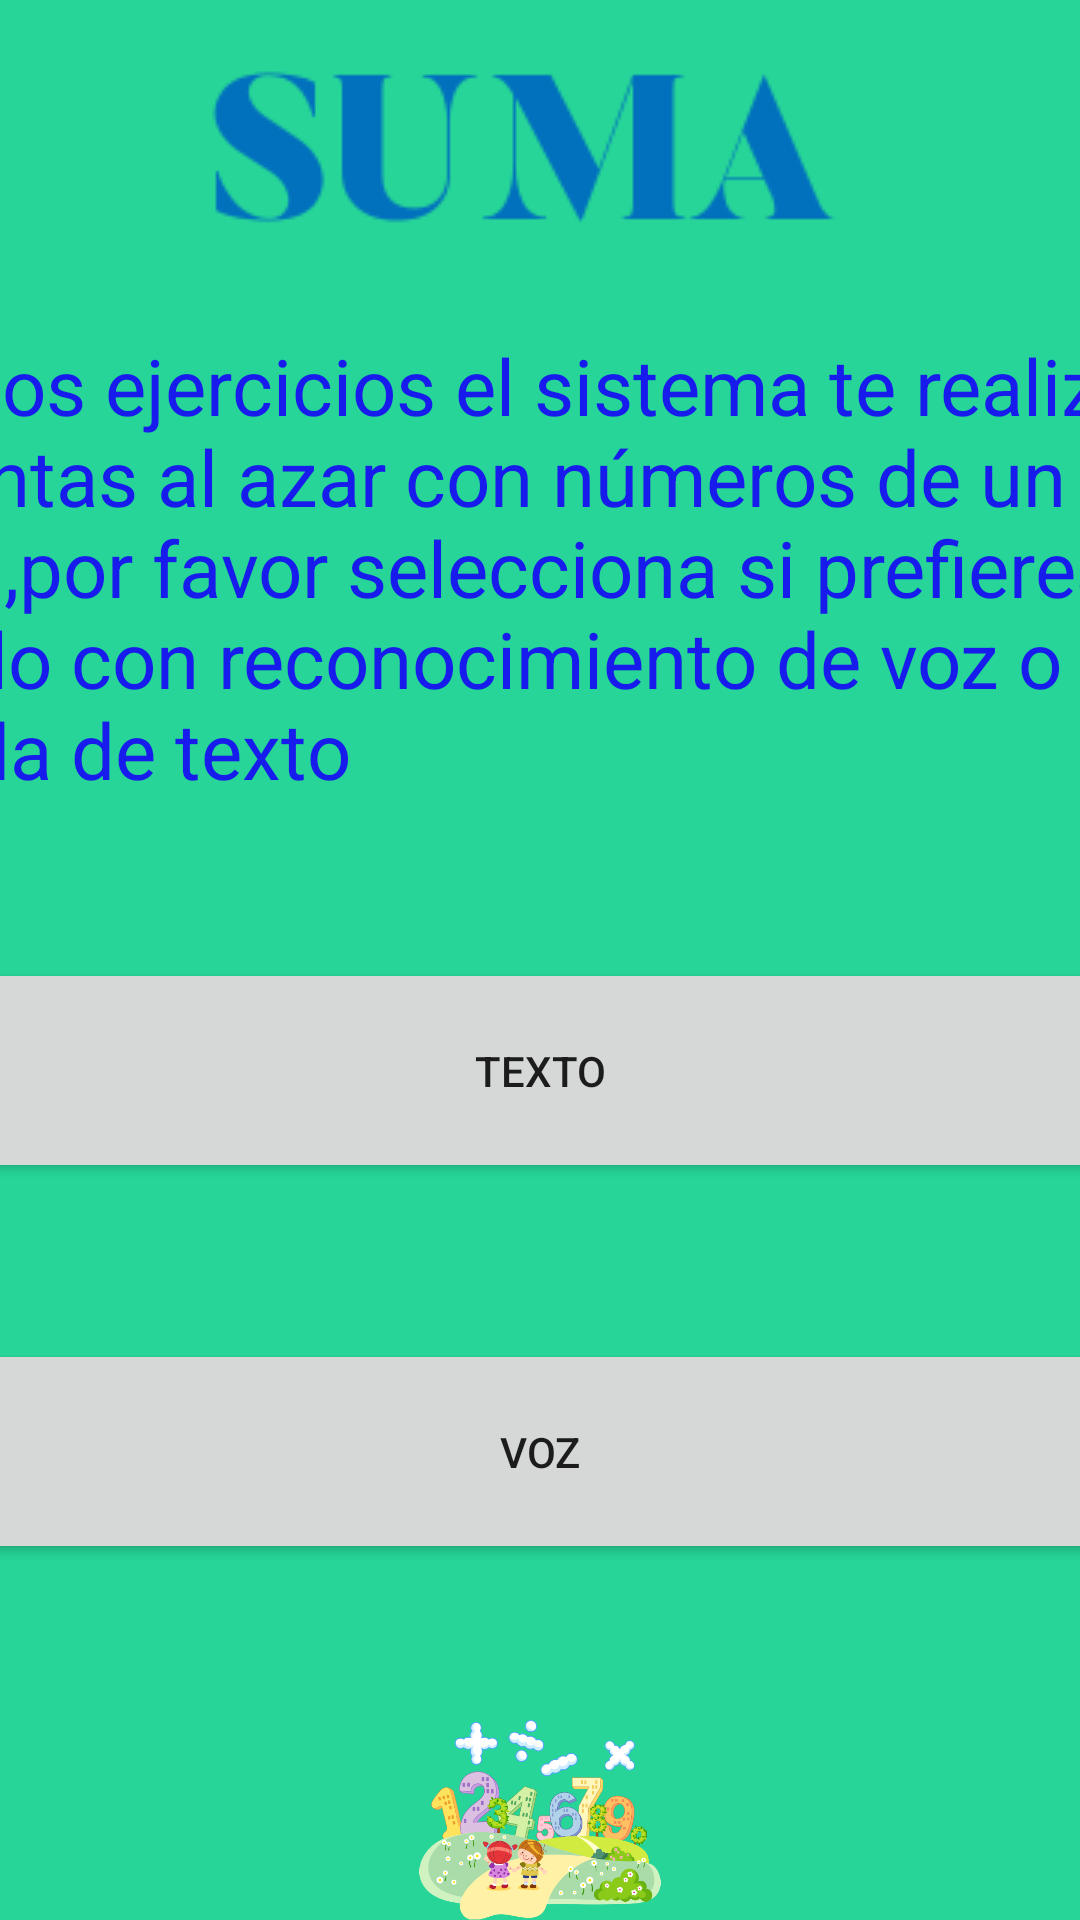

Screen size 1080 × 1920. Icon name, then its box in pixels as (left=x1, top=y1, right=x2, bottom=y2):
imagenmenus: (left=419, top=1720, right=661, bottom=1920)
